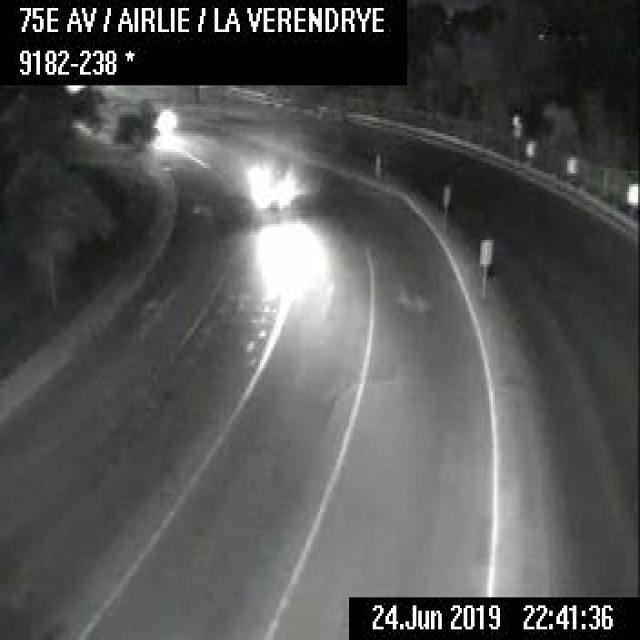vehicle: (222, 147, 296, 210), (156, 101, 180, 136)
